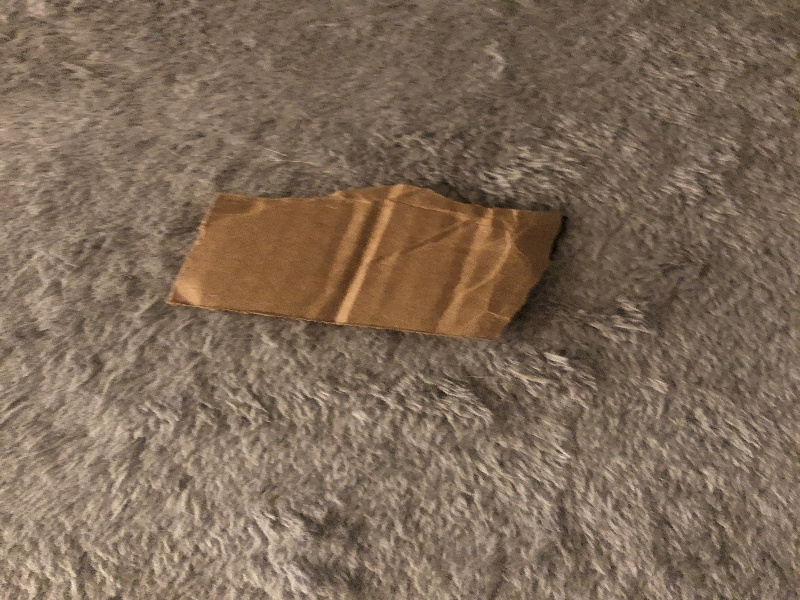cardboard: (163, 182, 572, 349)
